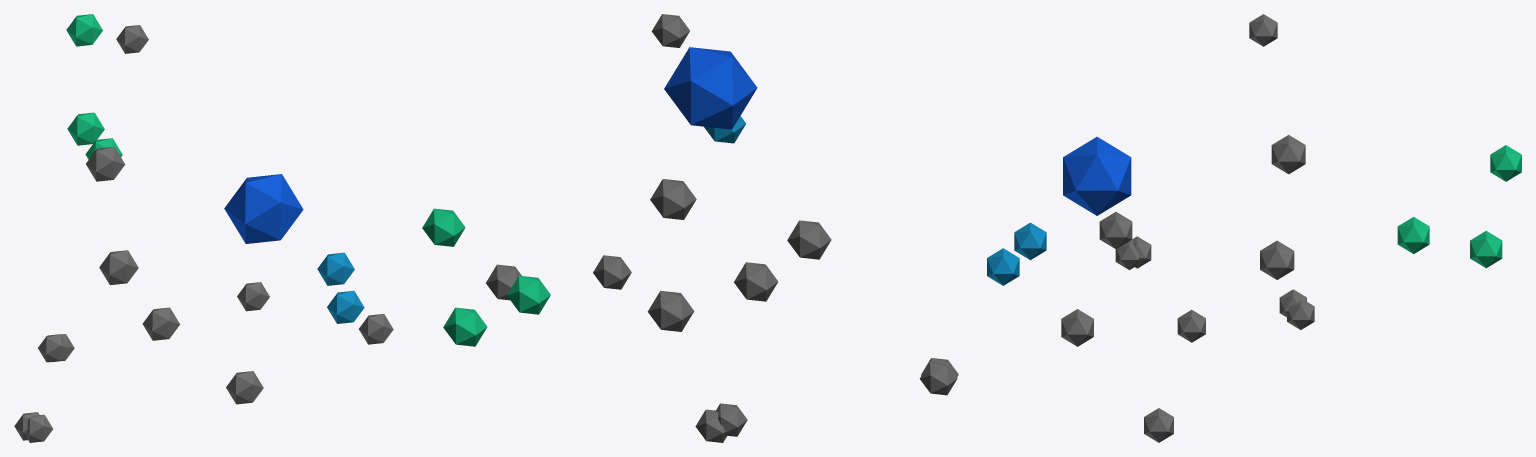
3 renders of one model, left to right at view 1: azimuth 30°, elevation 25°; view 2: azimuth 150°, elevation 25°; view 3: azimuth 270°, elevation 25°, orthographic. The views are drawn at different scales.
Visible parts, largest first — view 1: 07_02_09; view 2: 07_02_09; view 3: 07_02_09.
Part boxes in pixels (<box>): 07_02_09: <box>14,14,393,442</box>; 07_02_09: <box>422,14,958,442</box>; 07_02_09: <box>987,14,1521,442</box>.
Bounding box in the file's own units: 0.4819 × 0.403 × 0.5811.
